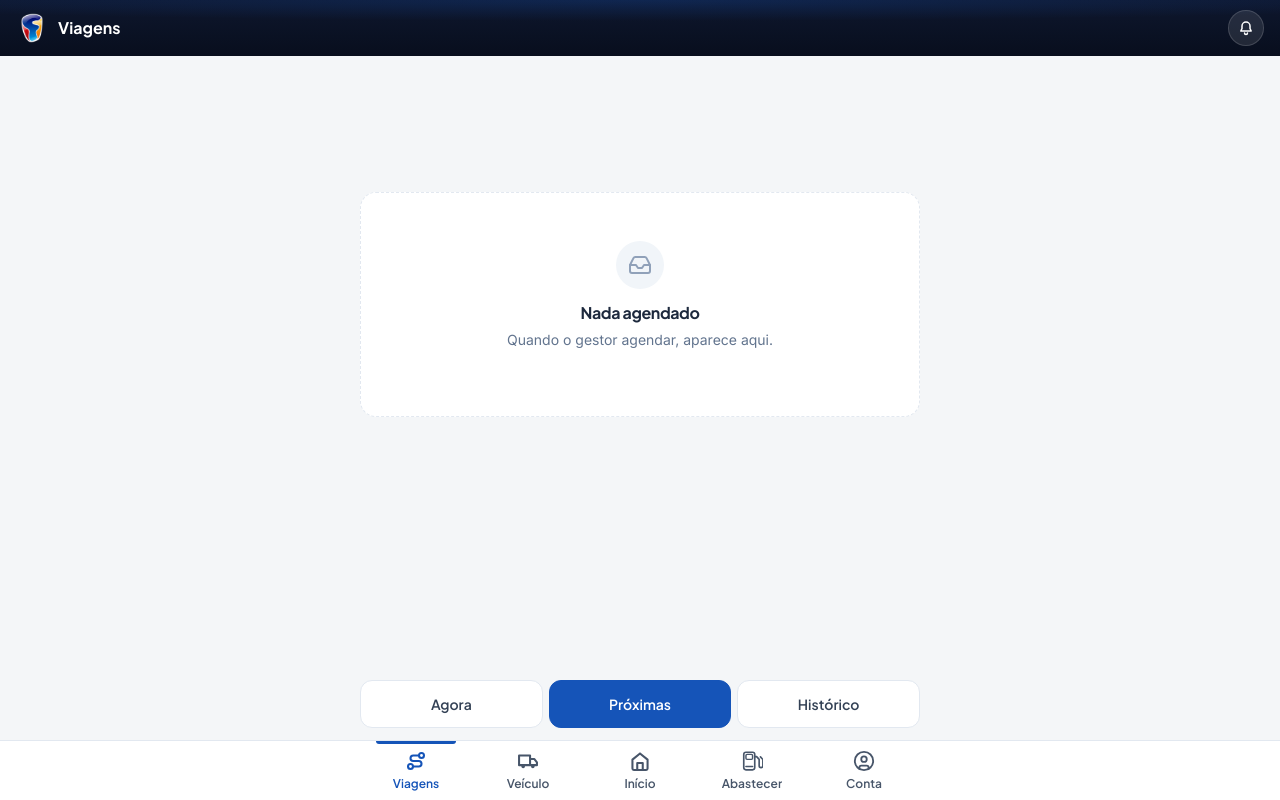
Test: Início e Viagens › separa o histórico, sem ações nas encerradas
The image size is (1280, 800).
Click the button "Histórico". click: (829, 704)
box: [737,680,920,728]
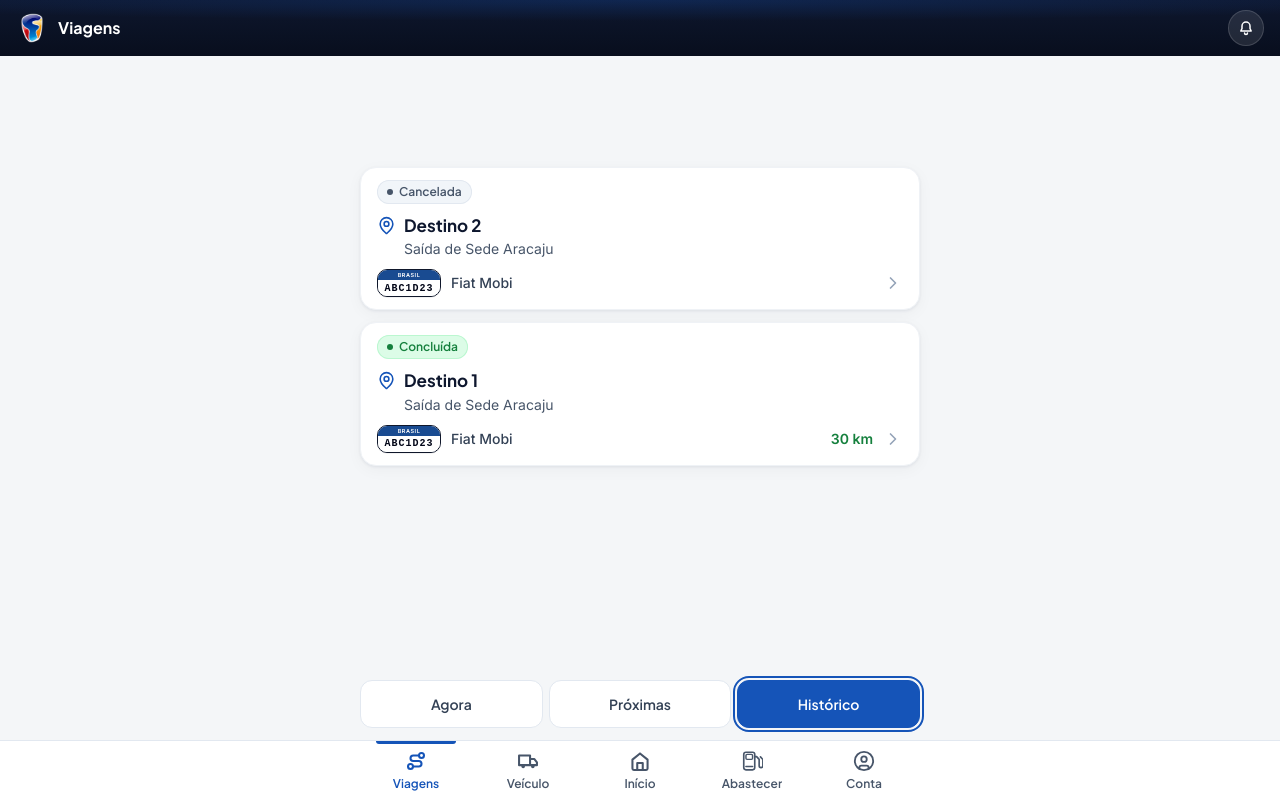
Check: the text "30 km" is shown, box [831,429,873,449]
Check: the text "Cancelada" is shown, box [377,180,472,204]
